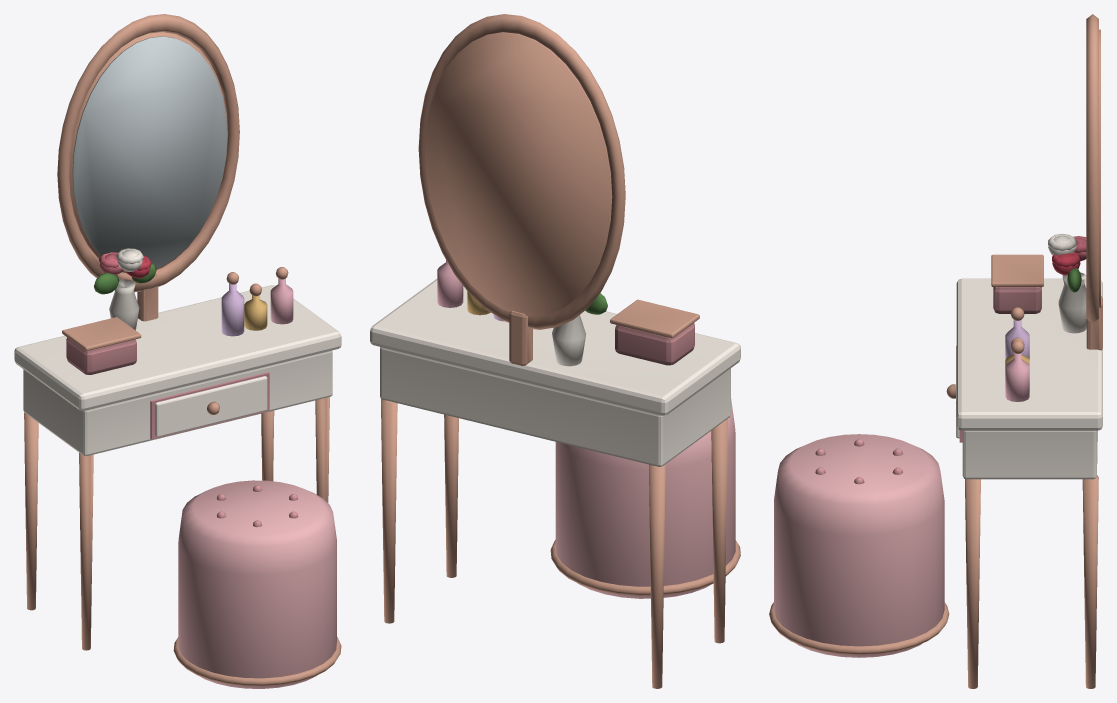
The model's file is vanity.glb.
3 renders of one model, left to right at view 1: azimuth 30°, elevation 25°; view 2: azimuth 150°, elevation 25°; view 3: azimuth 270°, elevation 25°, orthographic. The views are drawn at different scales.
Parts seen in each view (by area): view 1: body, drawer; view 2: body; view 3: body.
Part boxes in pixels (x1=…): body: x1=14, y1=14, x2=341, y2=688; drawer: x1=155, y1=376, x2=267, y2=437; body: x1=370, y1=14, x2=740, y2=688; body: x1=769, y1=14, x2=1102, y2=688.
Bounding box in the file's own units: 0.8 × 1.64 × 0.822.
